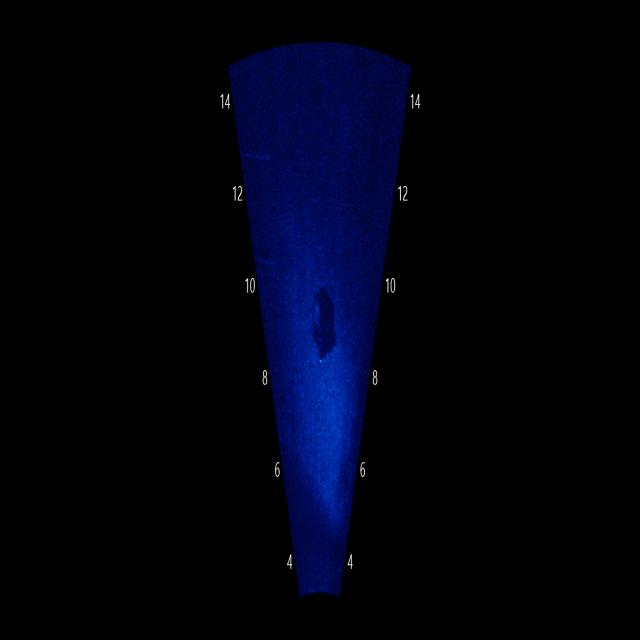square: (303, 273, 338, 377)
